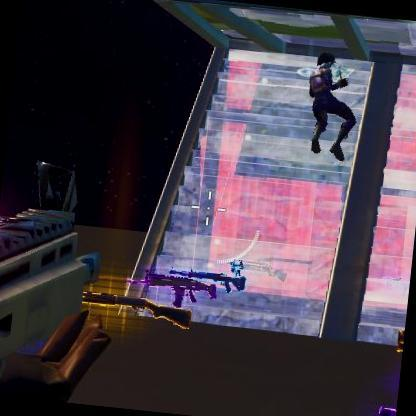person: (302, 50, 366, 160)
